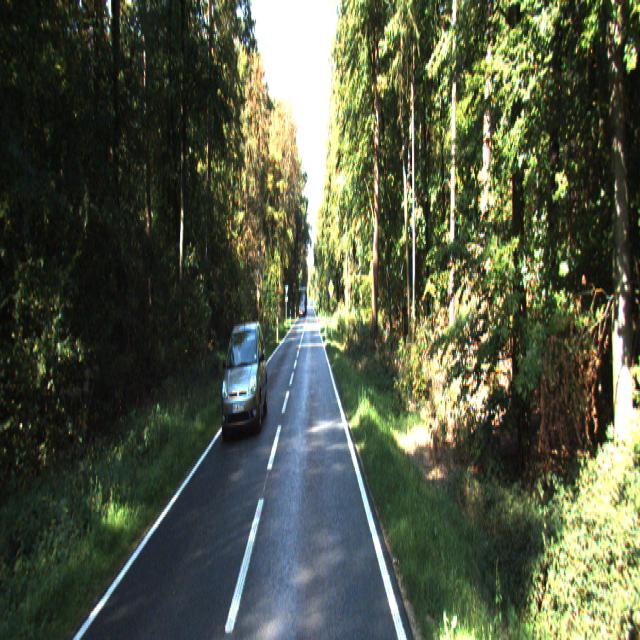Car: (221, 316, 269, 434)
